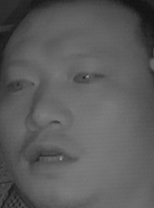eye: (72, 67, 106, 87), (6, 73, 35, 96)
mouth: (20, 138, 80, 174)
